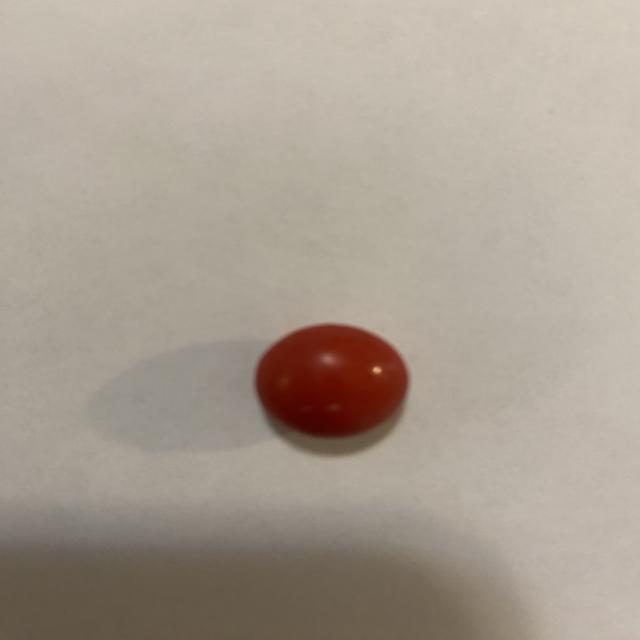smartie: (258, 325, 410, 441)
